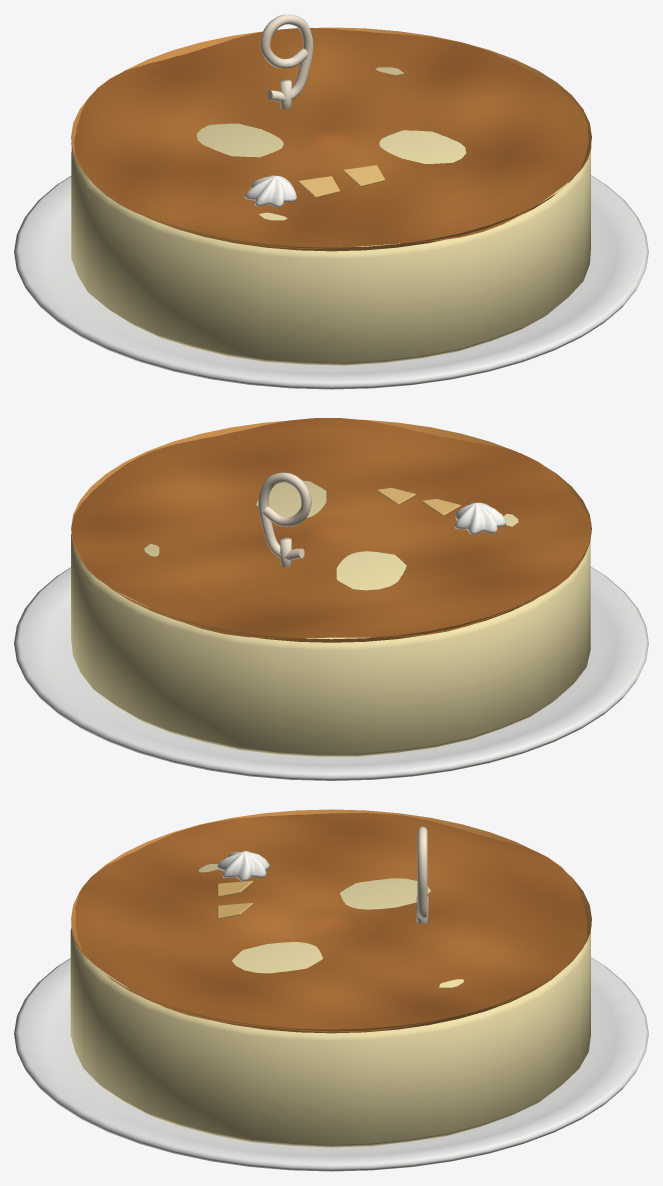
The model's file is cake-09.145189329e1b-BCaJhBPq.glb.
The picture shows the model from 3 angles, top to bottom: view 1: azimuth 30°, elevation 25°; view 2: azimuth 150°, elevation 25°; view 3: azimuth 270°, elevation 25°; orthographic projection.
Parts seen in each view (by area): view 1: Dimpled_baked_caramel_surface, Unwrapped_baked_cheesecake, Clean_porcelain_plate, Baked_thin_crust_edge, PART_FOOD_ROOT_MAT_number_wax, Low_cream_whip, PART_FOOD_ROOT_MAT_seed; view 2: Dimpled_baked_caramel_surface, Unwrapped_baked_cheesecake, Clean_porcelain_plate, Baked_thin_crust_edge, PART_FOOD_ROOT_MAT_number_wax, Low_cream_whip, PART_FOOD_ROOT_MAT_seed; view 3: Dimpled_baked_caramel_surface, Unwrapped_baked_cheesecake, Clean_porcelain_plate, Baked_thin_crust_edge, Low_cream_whip, PART_FOOD_ROOT_MAT_number_wax, PART_FOOD_ROOT_MAT_seed.
Part boxes in pixels (x1,y1,x2,y2): Dimpled_baked_caramel_surface: [71, 28, 591, 248]; Unwrapped_baked_cheesecake: [71, 67, 590, 365]; Clean_porcelain_plate: [14, 175, 648, 389]; Baked_thin_crust_edge: [71, 27, 591, 251]; PART_FOOD_ROOT_MAT_number_wax: [260, 14, 313, 109]; Low_cream_whip: [244, 175, 296, 207]; PART_FOOD_ROOT_MAT_seed: [297, 165, 384, 197]; Dimpled_baked_caramel_surface: [71, 418, 591, 638]; Unwrapped_baked_cheesecake: [71, 480, 590, 756]; Clean_porcelain_plate: [14, 567, 648, 780]; Baked_thin_crust_edge: [71, 419, 591, 642]; PART_FOOD_ROOT_MAT_number_wax: [258, 472, 311, 567]; Low_cream_whip: [454, 502, 505, 534]; PART_FOOD_ROOT_MAT_seed: [377, 488, 460, 516]; Dimpled_baked_caramel_surface: [71, 813, 591, 1032]; Unwrapped_baked_cheesecake: [70, 864, 590, 1147]; Clean_porcelain_plate: [14, 957, 648, 1171]; Baked_thin_crust_edge: [71, 809, 591, 1033]; Low_cream_whip: [217, 850, 269, 881]; PART_FOOD_ROOT_MAT_number_wax: [416, 826, 428, 923]; PART_FOOD_ROOT_MAT_seed: [217, 880, 252, 918].
Bounding box in the file's own units: 0.1952 × 0.0742 × 0.1952.
